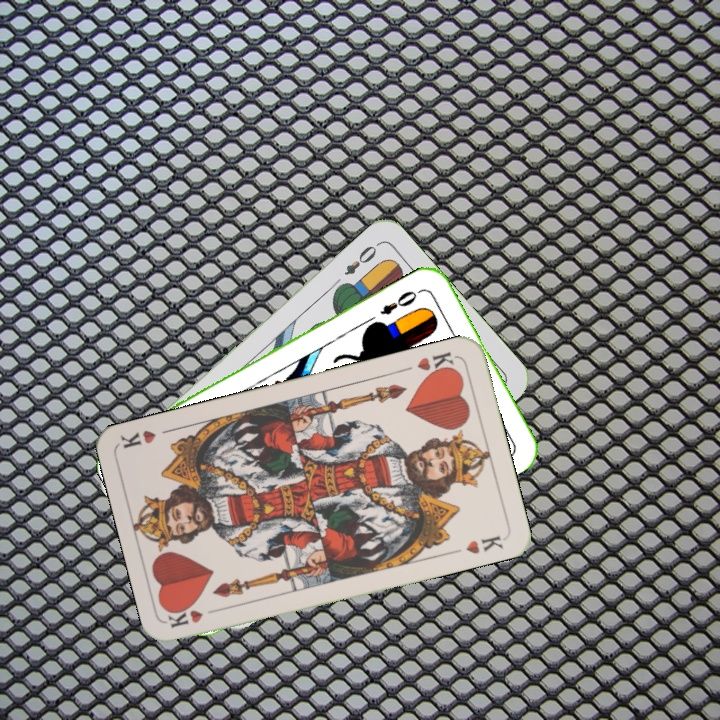EO: (340, 238, 382, 278), (376, 285, 425, 318)
HK: (165, 604, 224, 631), (413, 348, 459, 380)
